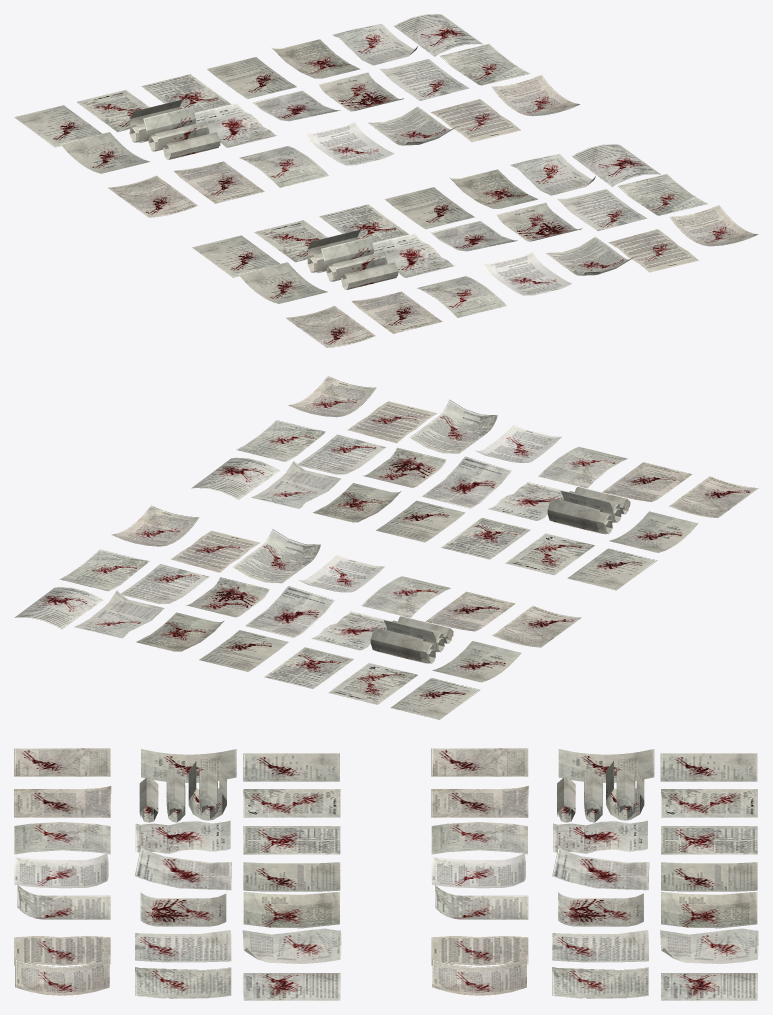
File: horror paper.fbx
3 views of the same model, one above another, from view 1: azimuth 30°, elevation 25°; view 2: azimuth 150°, elevation 25°; view 3: azimuth 270°, elevation 25° (orthographic). The views are drawn at different scales.
Visible parts, largest first — view 1: 1-_Material#20.001, 1-_Material#20.008, 1-_Material#20.006, 1-_Material#20.010, 1-_Material#20.021, 1-_Material#20.011, 1-_Material#20.018, 1-_Material#20.009, 1-_Material#20.012, 1-_Material#20.002, 1-_Material#20.003, 1-_Material#20.005 (+12 smaller); view 2: 1-_Material#20.001, 1-_Material#20.007, 1-_Material#20.017, 1-_Material#20.019, 1-_Material#20.024, 1-_Material#20.023, 1-_Material#20.021, 1-_Material#20.022, 1-_Material#20.011, 1-_Material#20.009, 1-_Material#20.002, 1-_Material#20.018 (+10 smaller); view 3: 1-_Material#20.001, 1-_Material#20.020, 1-_Material#20.019, 1-_Material#20.002, 1-_Material#20.010, 1-_Material#20.018, 1-_Material#20.021, 1-_Material#20.022, 1-_Material#20.023, 1-_Material#20.009, 1-_Material#20.011, 1-_Material#20.024 (+12 smaller).
Boxes of the visible parts, left/top/right/bottom form: 1-_Material#20.001: left=14, top=14, right=580, bottom=217; 1-_Material#20.008: left=484, top=252, right=571, bottom=295; 1-_Material#20.006: left=608, top=229, right=698, bottom=272; 1-_Material#20.010: left=351, top=291, right=442, bottom=333; 1-_Material#20.021: left=384, top=187, right=474, bottom=229; 1-_Material#20.011: left=285, top=306, right=375, bottom=347; 1-_Material#20.018: left=557, top=189, right=647, bottom=230; 1-_Material#20.009: left=417, top=276, right=506, bottom=317; 1-_Material#20.012: left=238, top=262, right=327, bottom=303; 1-_Material#20.002: left=618, top=174, right=707, bottom=215; 1-_Material#20.003: left=572, top=144, right=660, bottom=186; 1-_Material#20.005: left=670, top=205, right=758, bottom=246; 1-_Material#20.001: left=14, top=505, right=581, bottom=719; 1-_Material#20.007: left=409, top=399, right=497, bottom=453; 1-_Material#20.017: left=422, top=456, right=511, bottom=508; 1-_Material#20.019: left=251, top=461, right=341, bottom=508; 1-_Material#20.024: left=567, top=548, right=657, bottom=590; 1-_Material#20.023: left=505, top=533, right=594, bottom=575; 1-_Material#20.021: left=376, top=500, right=465, bottom=542; 1-_Material#20.022: left=441, top=518, right=530, bottom=559; 1-_Material#20.011: left=669, top=476, right=758, bottom=518; 1-_Material#20.009: left=538, top=446, right=627, bottom=488; 1-_Material#20.002: left=236, top=420, right=325, bottom=461; 1-_Material#20.018: left=298, top=434, right=386, bottom=474; 1-_Material#20.001: left=431, top=748, right=758, bottom=1000; 1-_Material#20.020: left=243, top=892, right=339, bottom=928; 1-_Material#20.019: left=242, top=928, right=341, bottom=963; 1-_Material#20.002: left=135, top=967, right=231, bottom=998; 1-_Material#20.010: left=14, top=786, right=111, bottom=817; 1-_Material#20.018: left=135, top=930, right=231, bottom=962; 1-_Material#20.021: left=243, top=862, right=340, bottom=891; 1-_Material#20.022: left=243, top=826, right=340, bottom=854; 1-_Material#20.023: left=243, top=789, right=340, bottom=817; 1-_Material#20.009: left=14, top=822, right=110, bottom=854; 1-_Material#20.011: left=14, top=748, right=110, bottom=776; 1-_Material#20.024: left=243, top=753, right=339, bottom=781.
Bounding box in the file's own units: 306 × 19.54 × 388.
1 material, 1 textured.
